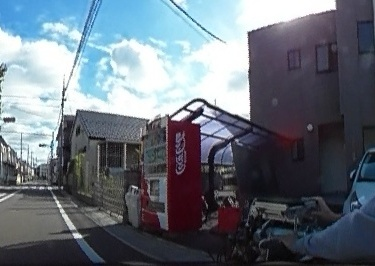person: (296, 60, 375, 266)
